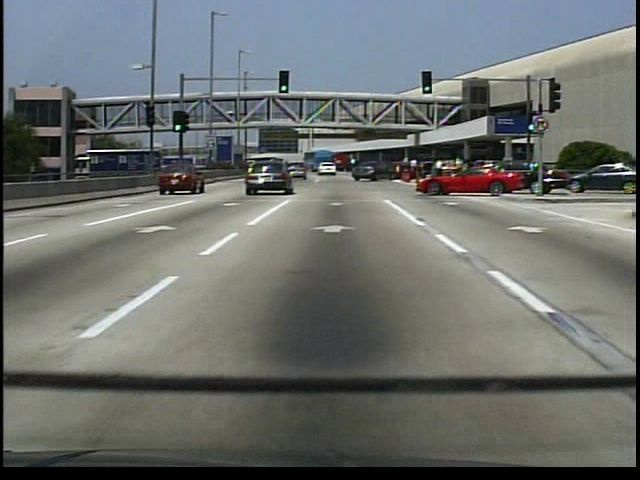person: (409, 158, 420, 182), (435, 159, 444, 178), (228, 111, 235, 125)
